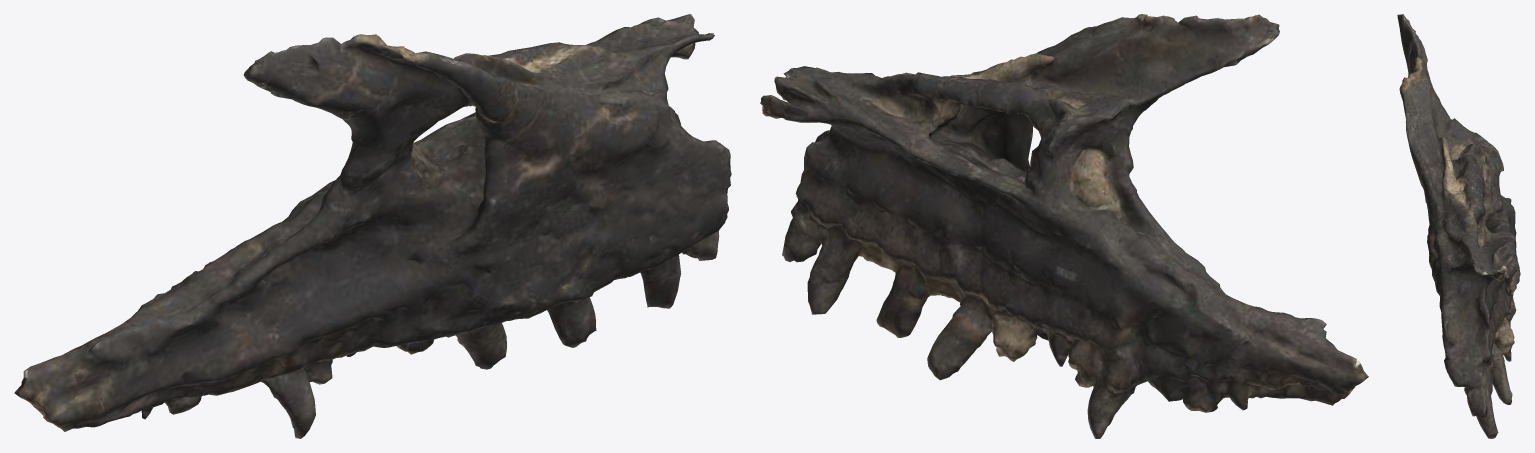
Rendered from allosaurus-jaw.glb.
The picture shows the model from 3 angles, left to right: view 1: azimuth 30°, elevation 25°; view 2: azimuth 150°, elevation 25°; view 3: azimuth 270°, elevation 25°; orthographic projection. The views are drawn at different scales.
Parts seen in each view (by area): view 1: mesh_0; view 2: mesh_0; view 3: mesh_0.
Part boxes in pixels (x1,y1,x2,y2): mesh_0: (14, 14, 731, 438); mesh_0: (760, 14, 1368, 438); mesh_0: (1397, 14, 1520, 438).
Bounding box in the file's own units: 0.3474 × 0.2236 × 0.0804.
1 material, 1 textured.
